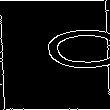O_W: (5, 33, 105, 77)
